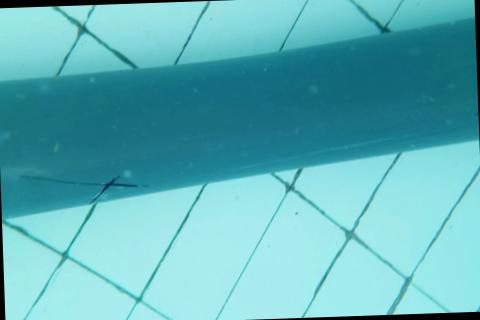keretakan: (19, 167, 148, 208)
